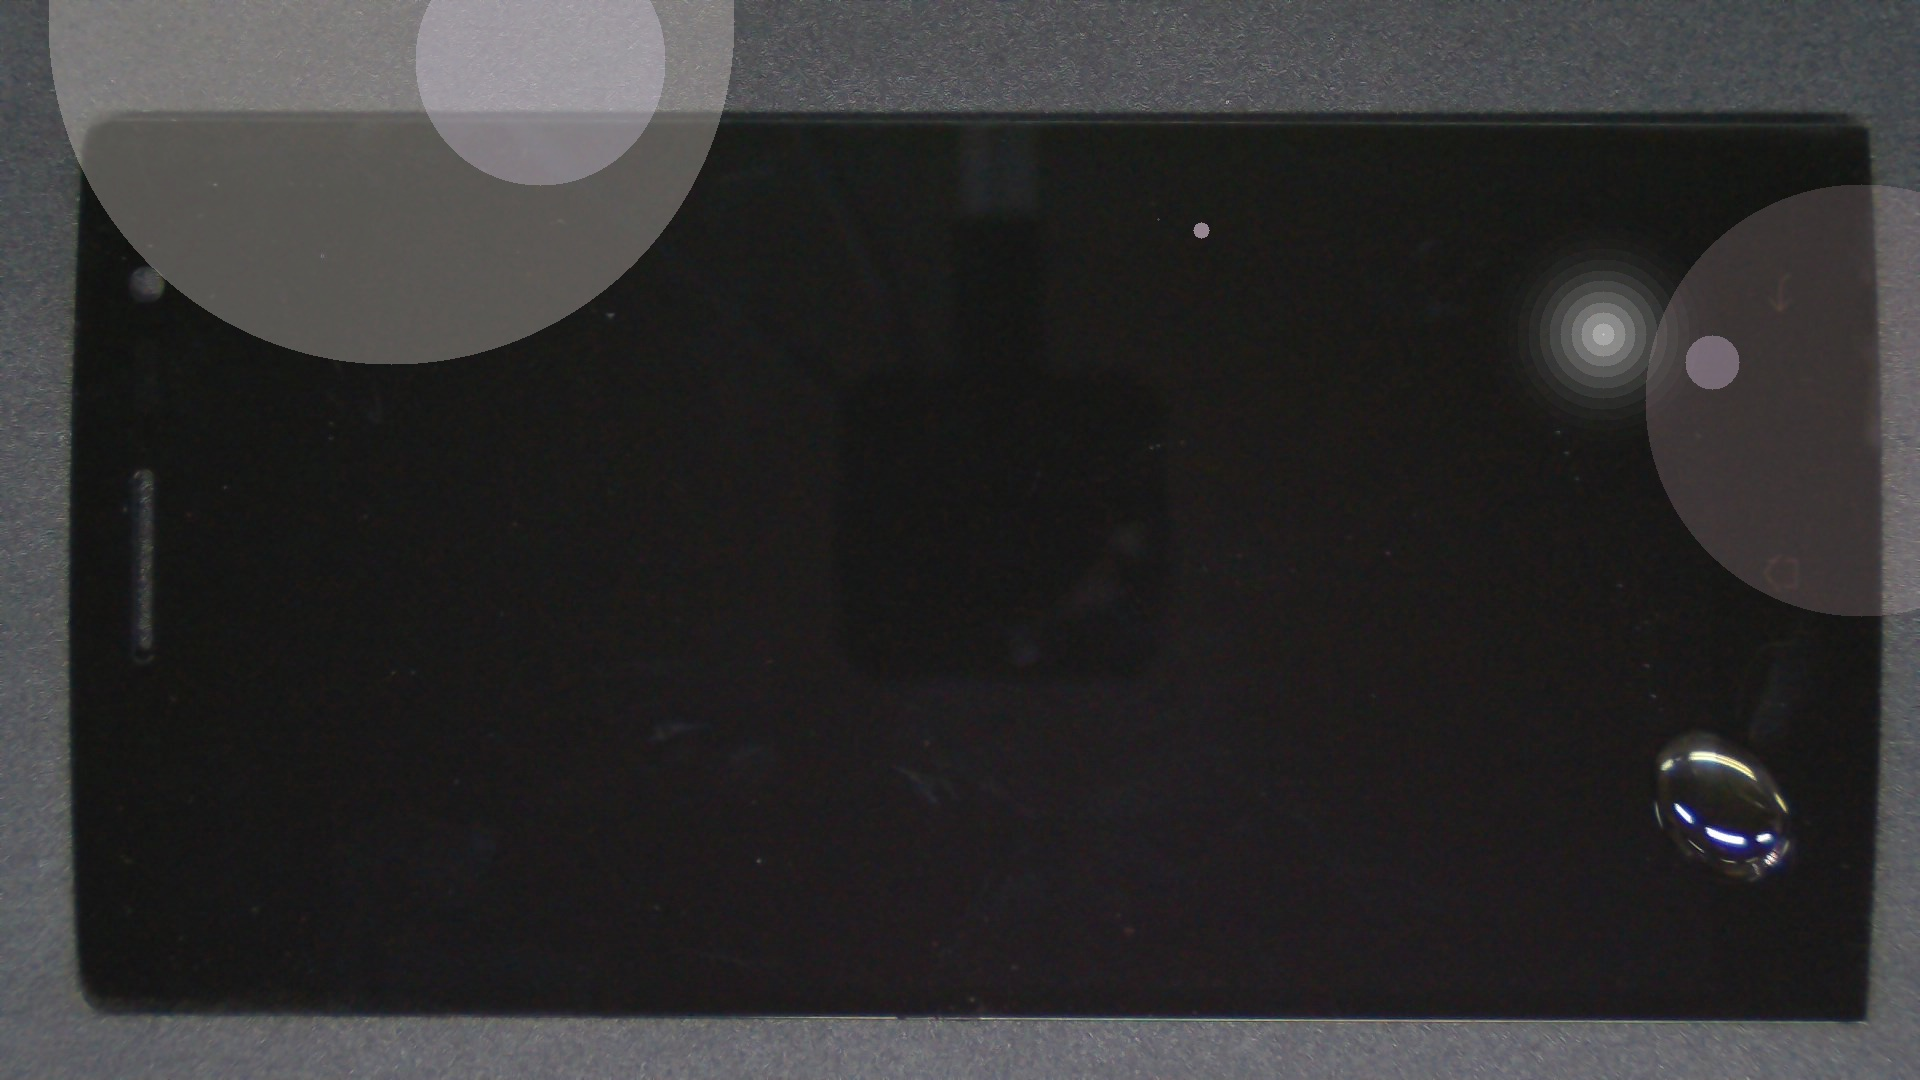oil: (849, 365, 1920, 1080)
